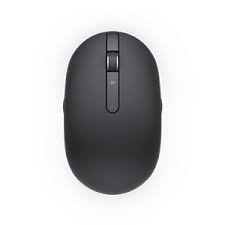mouse: (61, 30, 162, 196)
